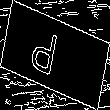P_S: (39, 26, 71, 84)
